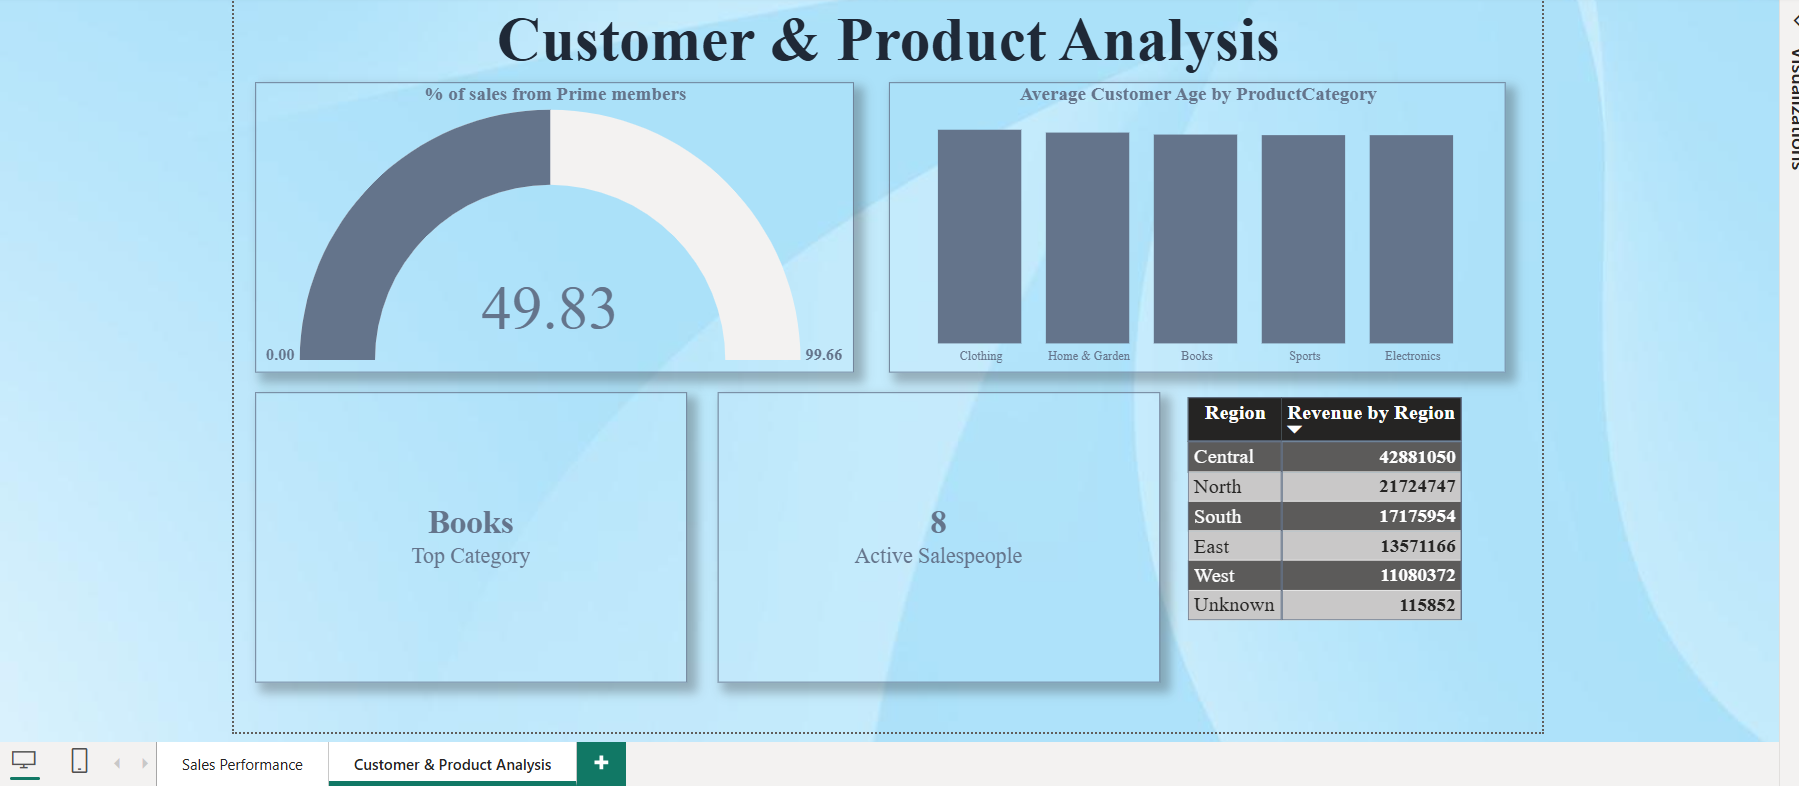

The page's visual inventory and layout, read from the dashboard file:
{"tool":"powerbi","page":{"name":"Customer & Product Analysis","canvas":[1280,720],"ordinal":1},"visuals":[{"type":"shape","box":[0,0,1280,84.5],"z":0},{"type":"gauge","title":"% of sales from Prime members","fields":{"Y":["Measures Table 2.Prime Member Rate"]},"box":[20.8,84.4,585.7,283.7],"z":1000},{"type":"cardVisual","fields":{"Data":["Measures Table 2.Top Category"]},"box":[20.9,387.1,422.7,283.9],"z":2000},{"type":"clusteredColumnChart","fields":{"Y":["Measures Table 2.Average Customer Age"],"Category":["SalesData.ProductCategory"]},"box":[640.2,84.8,603.4,283.9],"z":3000},{"type":"cardVisual","fields":{"Data":["Measures Table 2.Active Salespeople"]},"box":[473.1,387.1,432.6,283.9],"z":4000},{"type":"pivotTable","fields":{"Values":["Measures Table 2.Revenue by Region"],"Rows":["SalesData.Region"]},"box":[927.8,387.1,315.8,283.9],"z":5000}]}

Visuals, with their boxes on the page's 1280x720 design canvas (x1, y1, x2, y2). These are canvas units, not pixel positions in the 1799x786 screenshot, which may show the page scaled, cropped or inside an application window:
shape: pyautogui.locateOnScreen(0, 0, 1280, 84)
"% of sales from Prime members" gauge: pyautogui.locateOnScreen(21, 84, 606, 368)
cardVisual - Measures Table 2.Top Category: pyautogui.locateOnScreen(21, 387, 444, 671)
clusteredColumnChart - Measures Table 2.Average Customer Age x SalesData.ProductCategory: pyautogui.locateOnScreen(640, 85, 1244, 369)
cardVisual - Measures Table 2.Active Salespeople: pyautogui.locateOnScreen(473, 387, 906, 671)
pivotTable - Measures Table 2.Revenue by Region x SalesData.Region: pyautogui.locateOnScreen(928, 387, 1244, 671)
